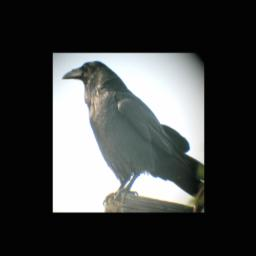Crow: (61, 59, 204, 206)
